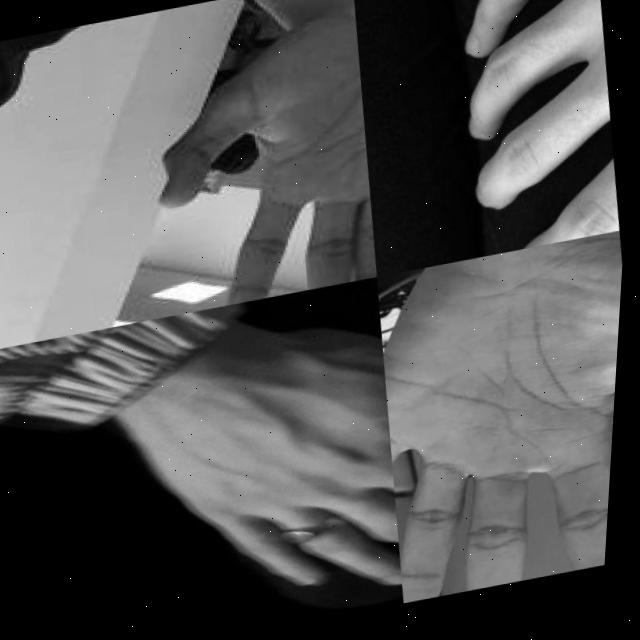hand: (95, 298, 423, 635), (365, 237, 628, 610), (337, 0, 635, 283), (133, 10, 393, 321)
